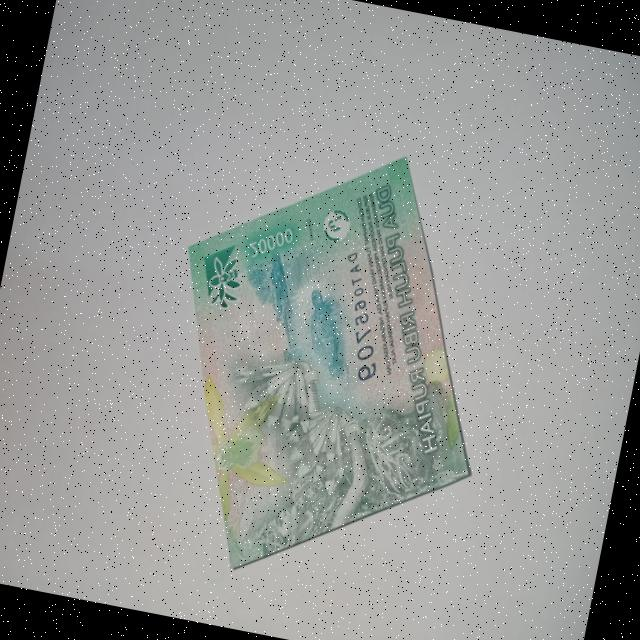20K: (122, 109, 530, 620)
